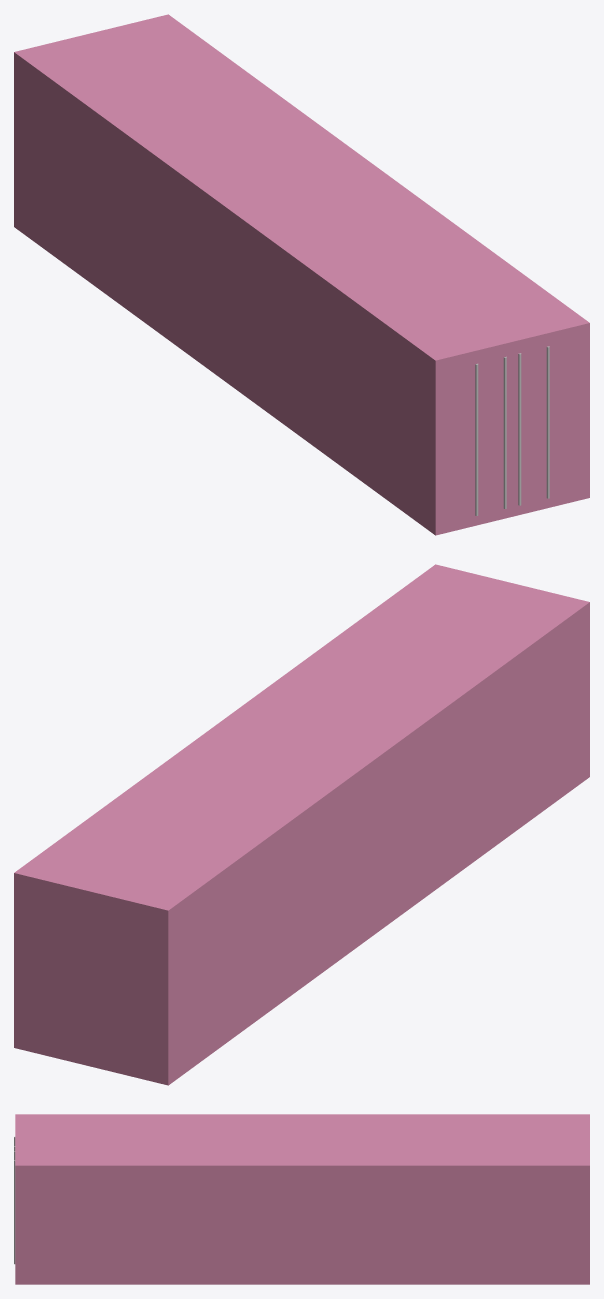
File: container_01_b.dae
3 views of the same model, one above another, from view 1: azimuth 30°, elevation 25°; view 2: azimuth 150°, elevation 25°; view 3: azimuth 270°, elevation 25° (orthographic). The views are drawn at different scales.
Parts seen in each view (by area): view 1: Untitled, ind_bld_a300; view 2: Untitled; view 3: Untitled, ind_bld_a300.
Part boxes in pixels (x1=…): Untitled: x1=14, y1=14, x2=589, y2=535; ind_bld_a300: x1=475, y1=346, x2=549, y2=515; Untitled: x1=14, y1=564, x2=589, y2=1085; Untitled: x1=15, y1=1114, x2=589, y2=1284; ind_bld_a300: x1=14, y1=1136, x2=15, y2=1264.
Size of the model in its own units: 2.55 by 12.1 by 2.76.
